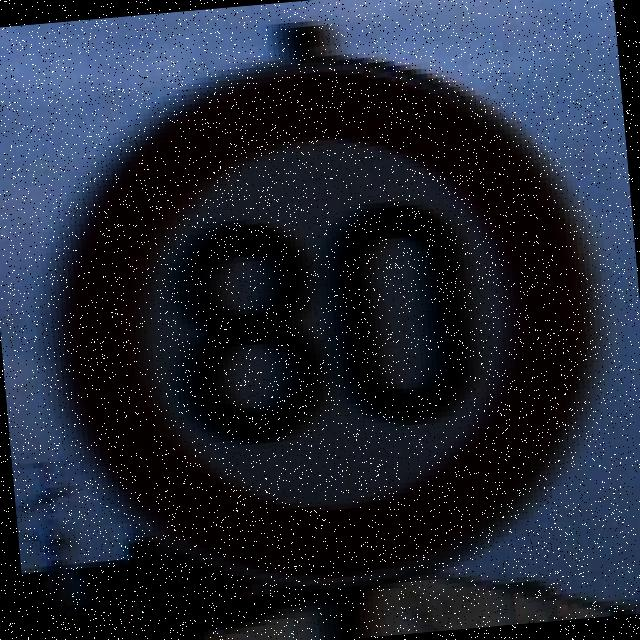Ograniczenie predkosci do 80: (51, 41, 608, 606)
